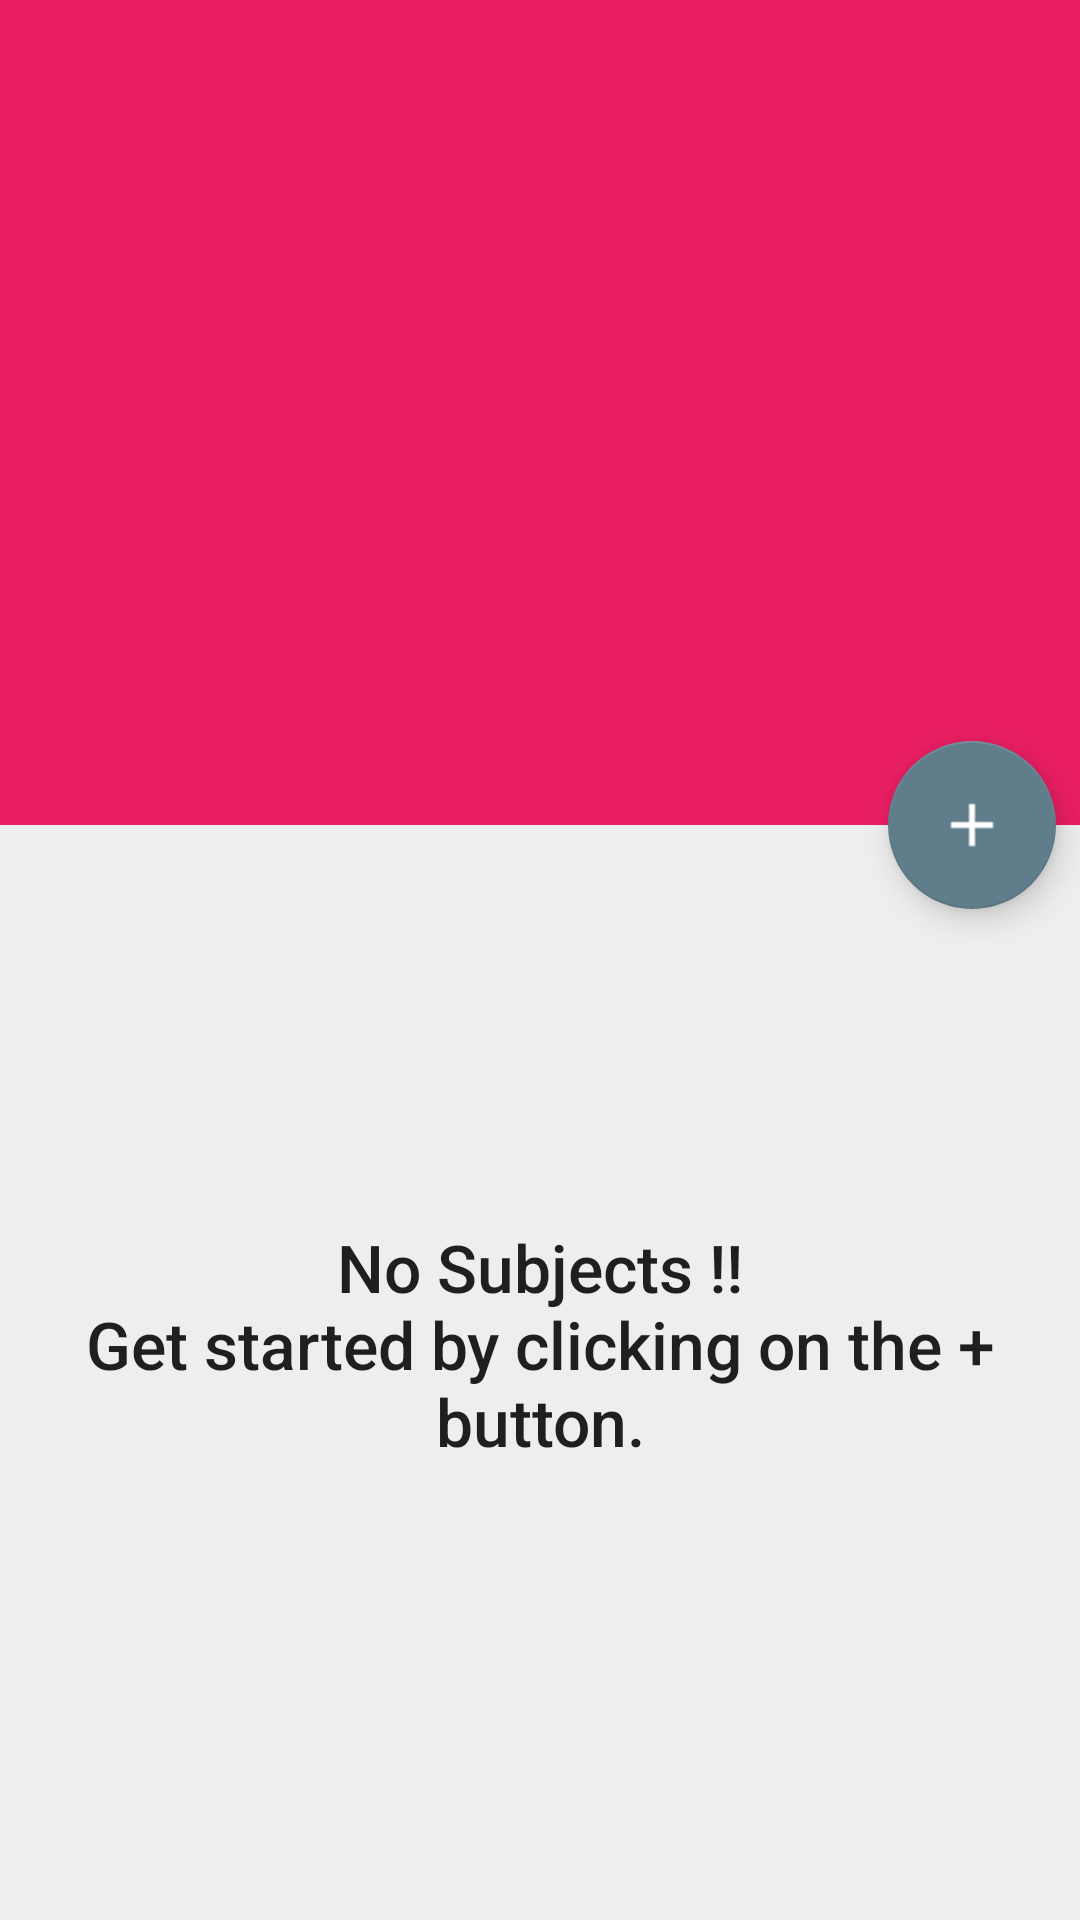

Where to tap for icons on this 1080px x 1920px app screen, as (x,y):
add: (972,825)
